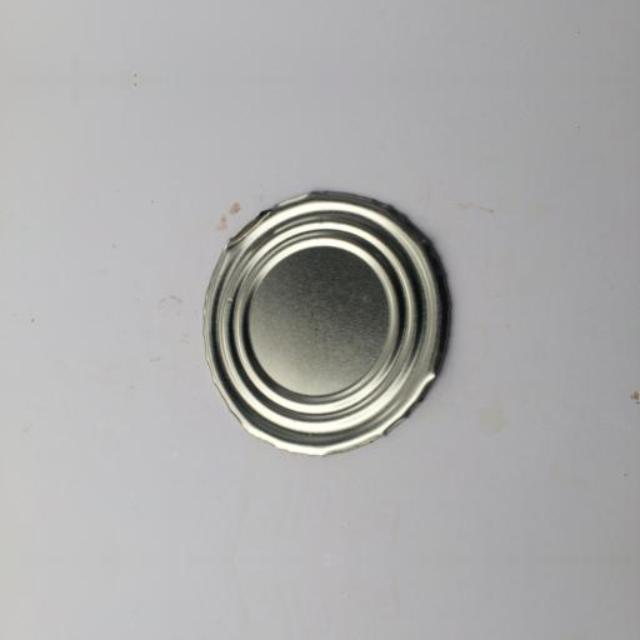Metal: (153, 177, 481, 465)
